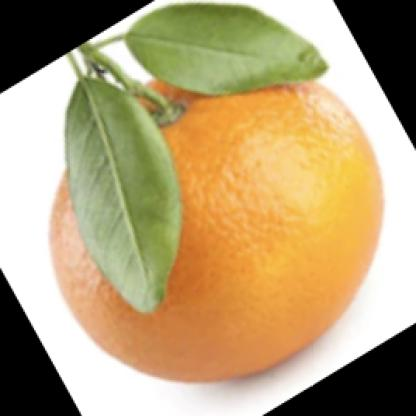fresh: (53, 58, 385, 382)
